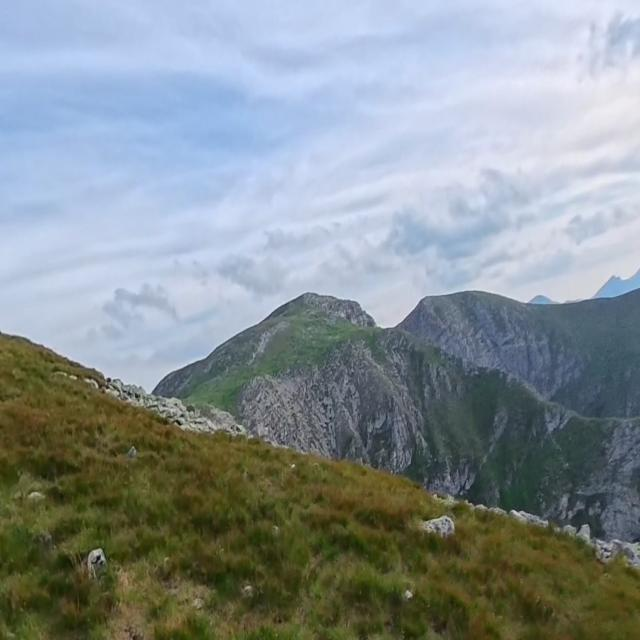Krzesanica: (238, 220, 386, 364)
